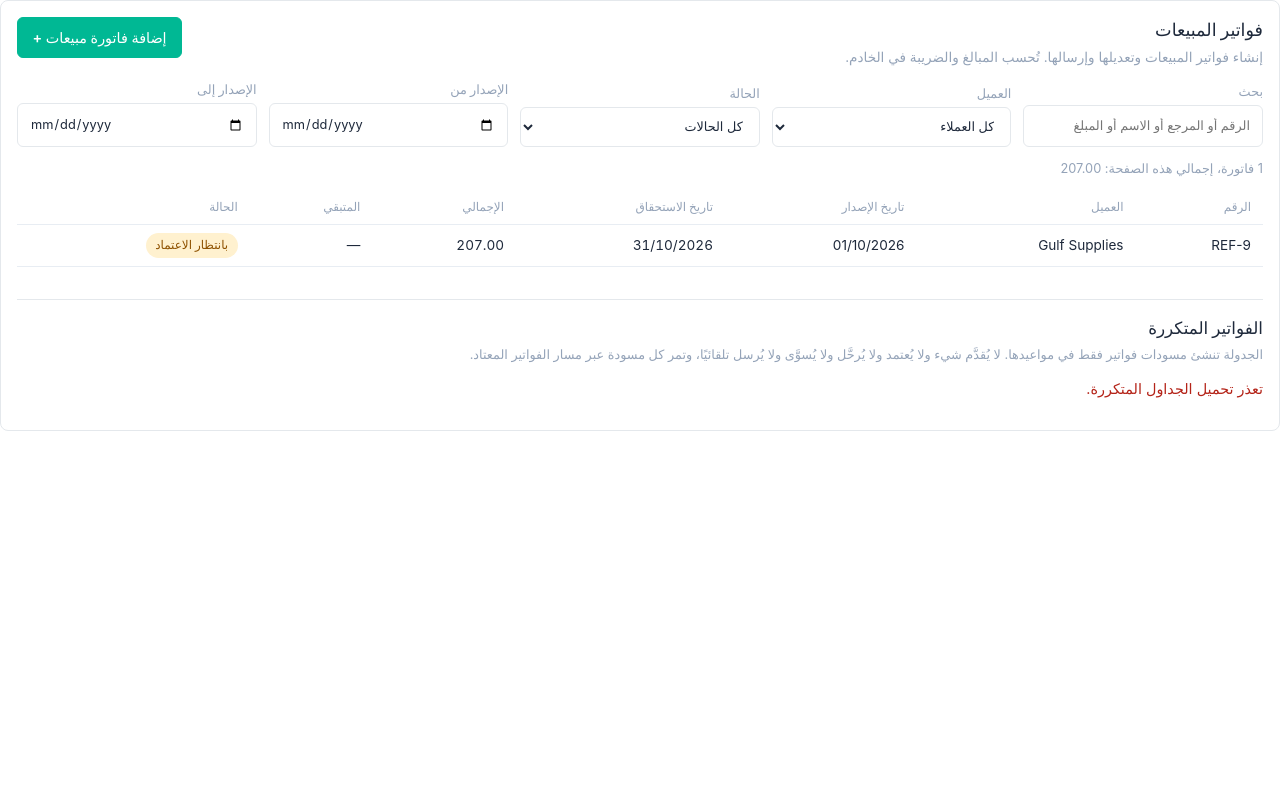
Invoice details actions › is fully translated in Arabic
Click the text "REF-9" at (1199, 245), box [1136,225,1263,266]
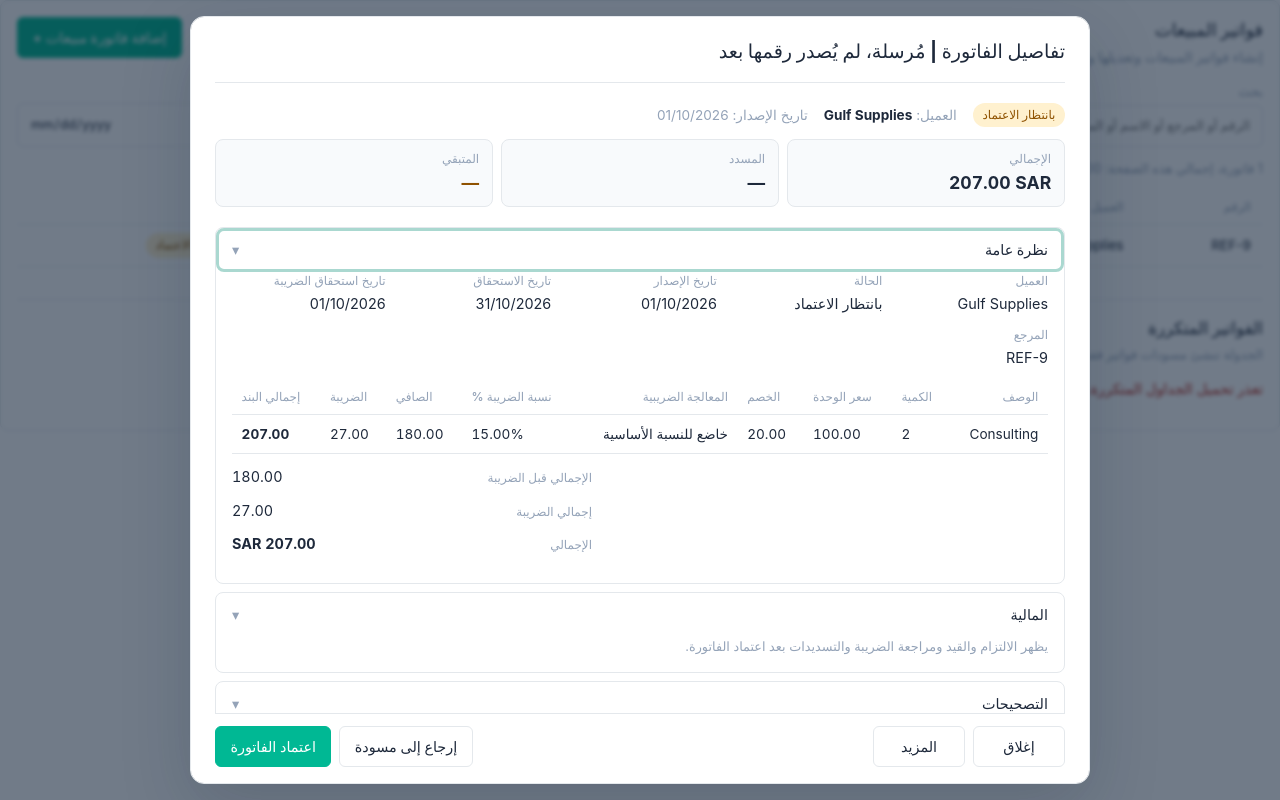
Expected: the element named "ملخص الفاتورة" is shown, [215,103,1065,219]
Expected: the heading "تفاصيل الفاتورة | مُرسلة، لم يُصدر رقمها بعد" is shown, [215,17,1065,83]
Click the button "المزيد" at (919, 746), box [873,726,965,767]
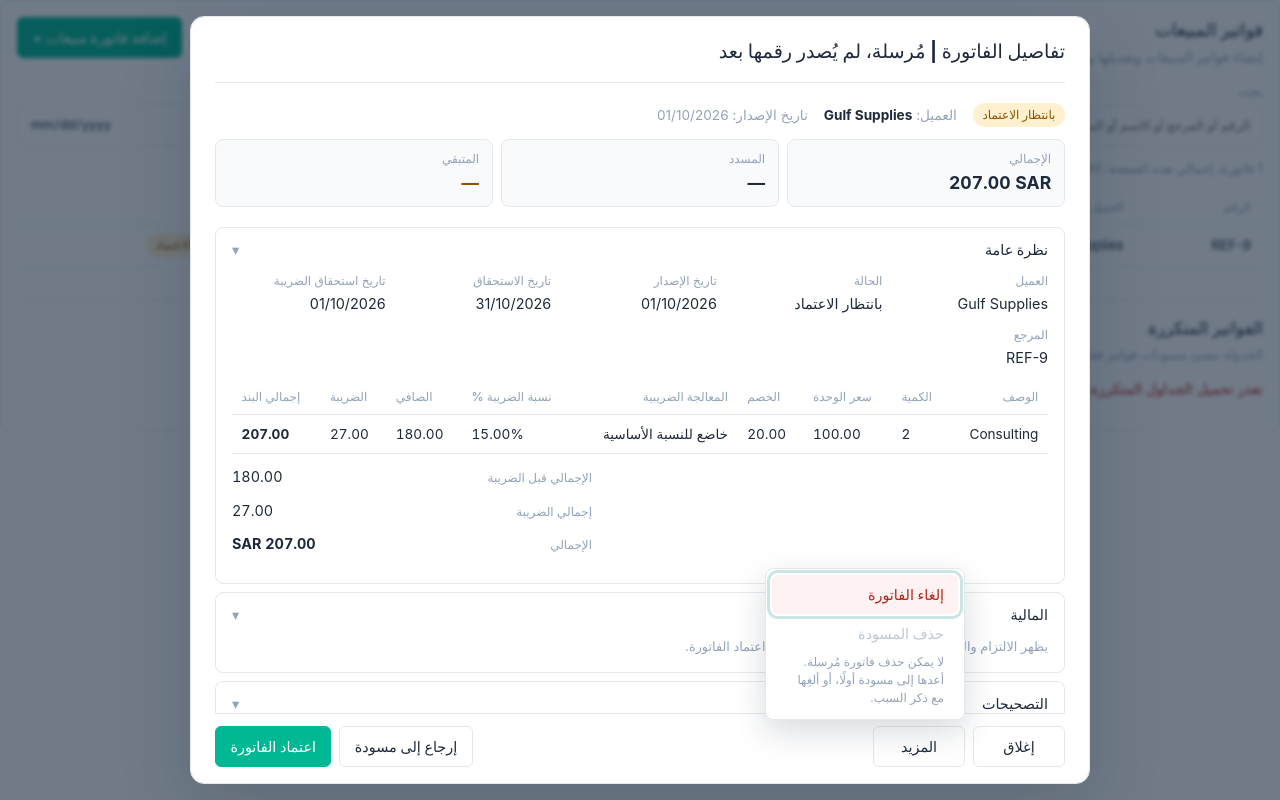
Expected: the menu named "إجراءات أخرى" is shown, [765,568,965,720]
